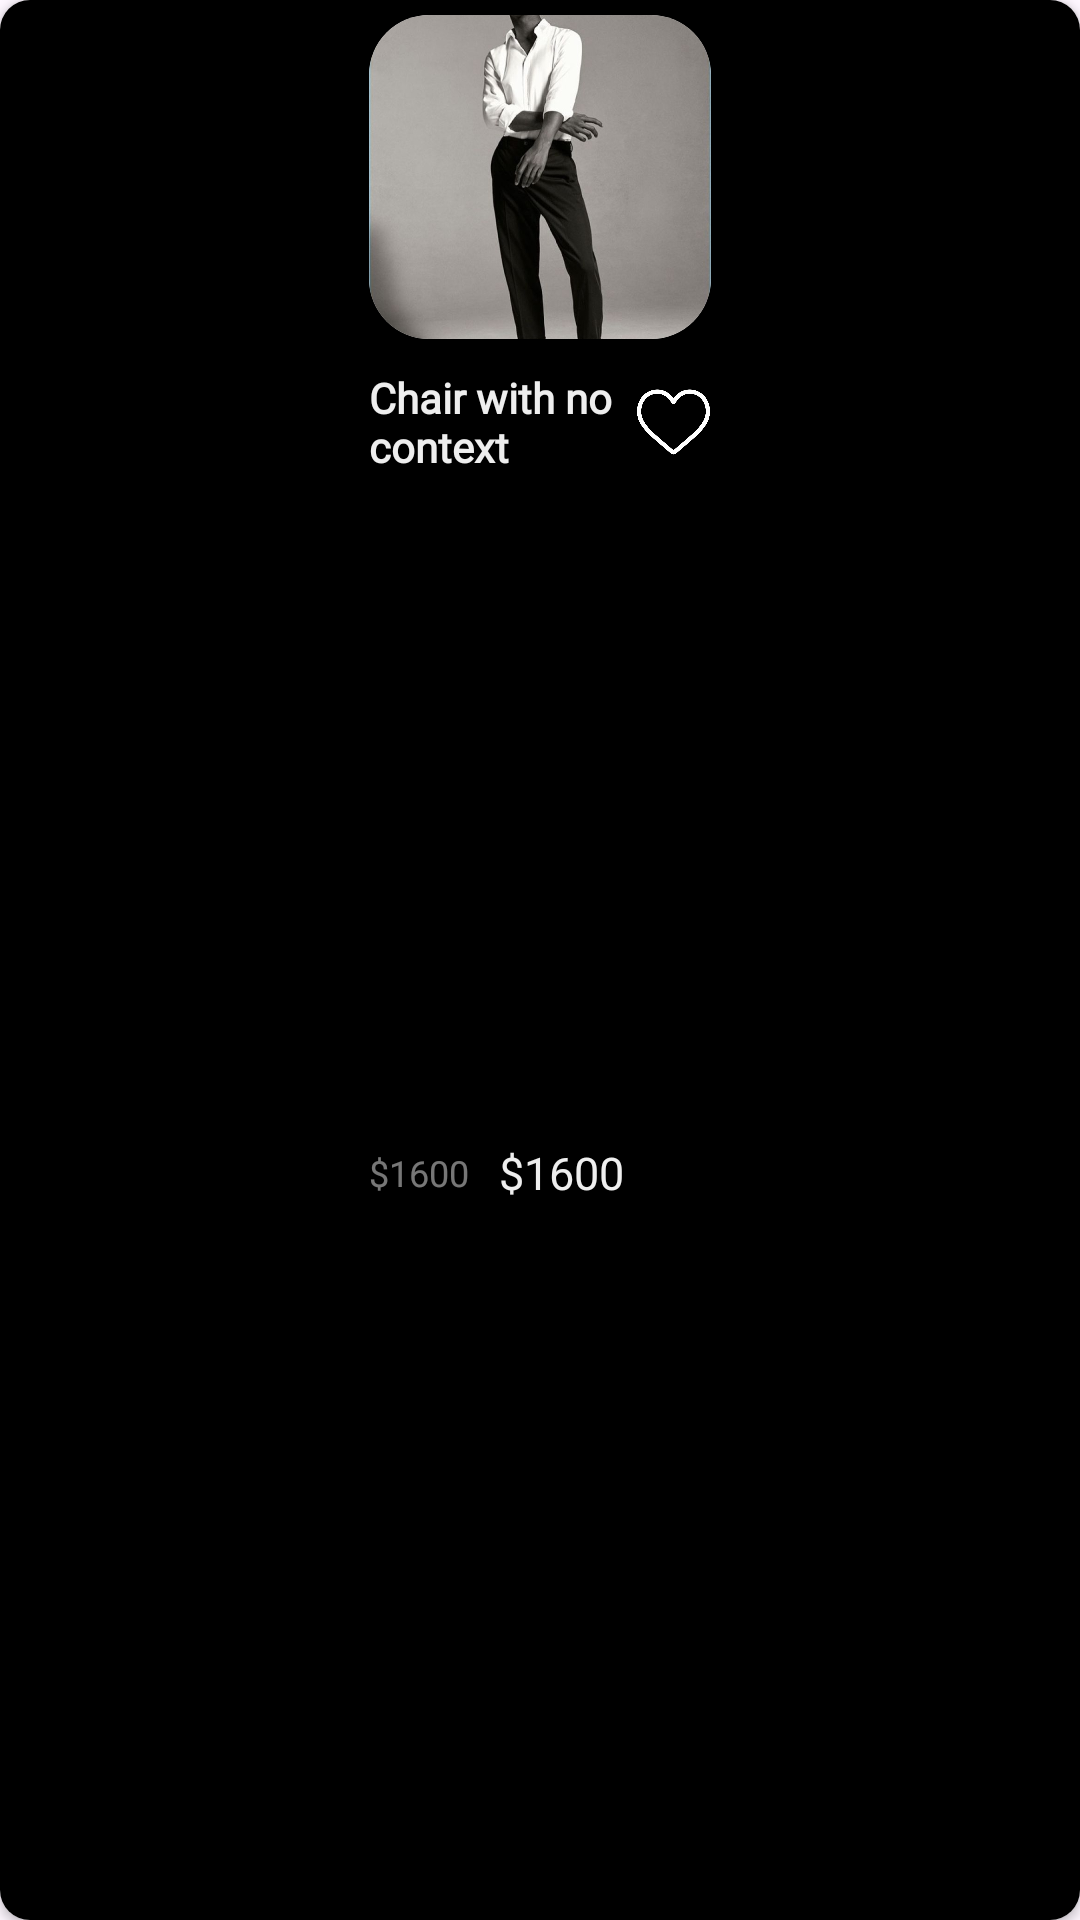

Icon bounding boxes for this 1080 x 1920 phone screenshot, format (x1=x1, y1=y1, x2=x2, y2=y2):
model: (x1=369, y1=15, x2=711, y2=339)
not favourite: (x1=637, y1=389, x2=710, y2=455)
